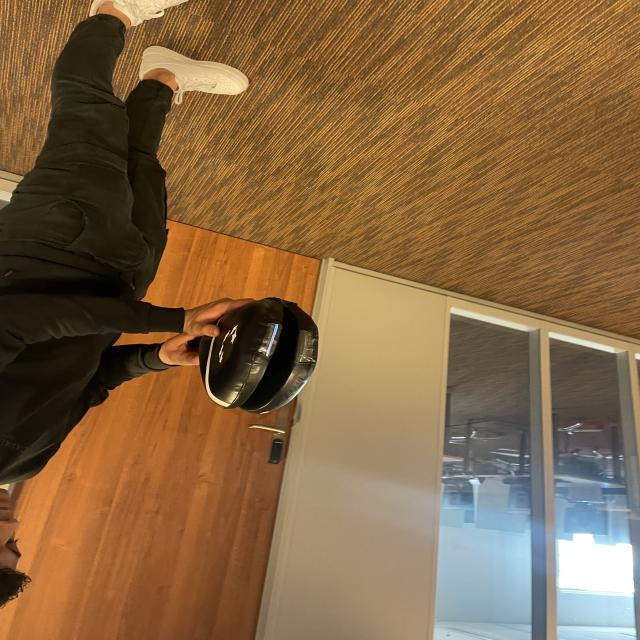paddle: (206, 306, 312, 413)
trigger: (264, 319, 280, 360)
